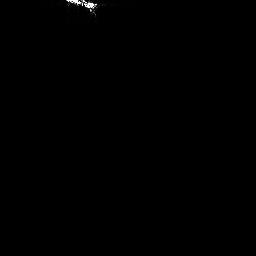ship: (63, 1, 98, 16)
